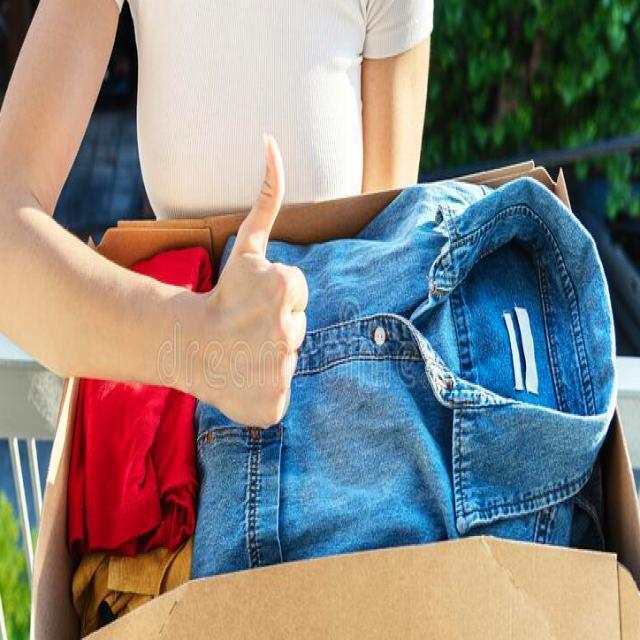clothes: (314, 175, 614, 554), (90, 418, 308, 592)
